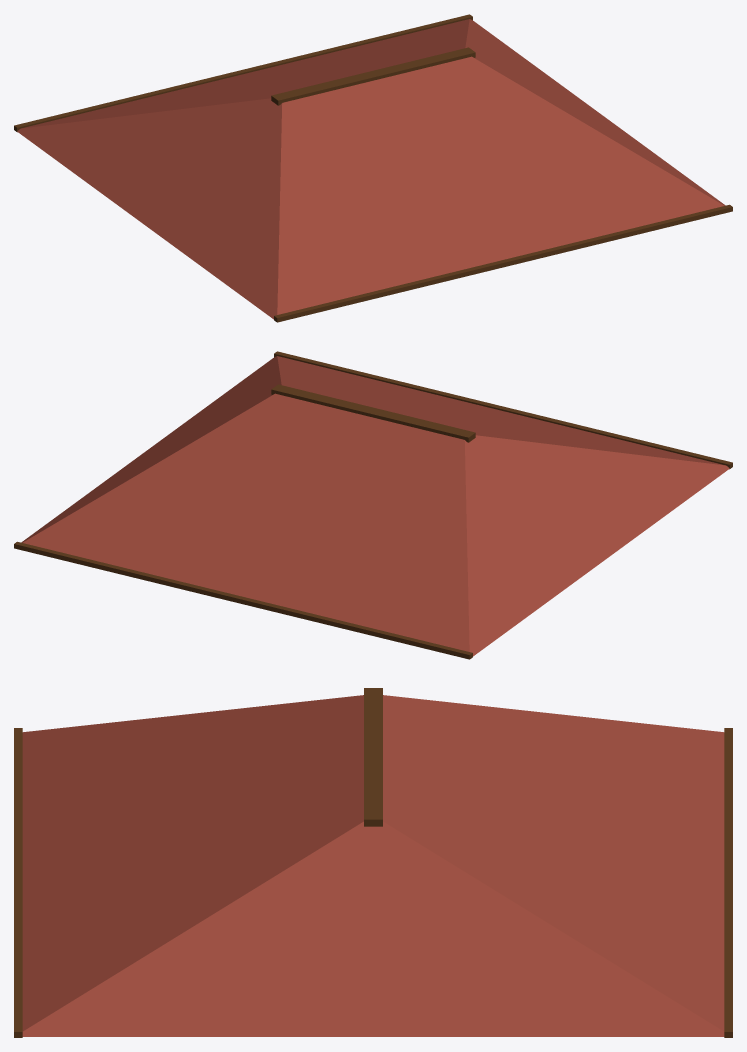
The model's file is mod_roof_slanted.glb.
The picture shows the model from 3 angles, top to bottom: view 1: azimuth 30°, elevation 25°; view 2: azimuth 150°, elevation 25°; view 3: azimuth 270°, elevation 25°; orthographic projection. The views are drawn at different scales.
Visible parts, largest first — view 1: Mod_RoofSlanted; view 2: Mod_RoofSlanted; view 3: Mod_RoofSlanted.
Boxes of the visible parts, <box> form: Mod_RoofSlanted: <box>14,14,732,322</box>; Mod_RoofSlanted: <box>14,351,732,659</box>; Mod_RoofSlanted: <box>14,688,732,1037</box>.
Bounding box in the file's own units: 15 × 3.04 × 15.
